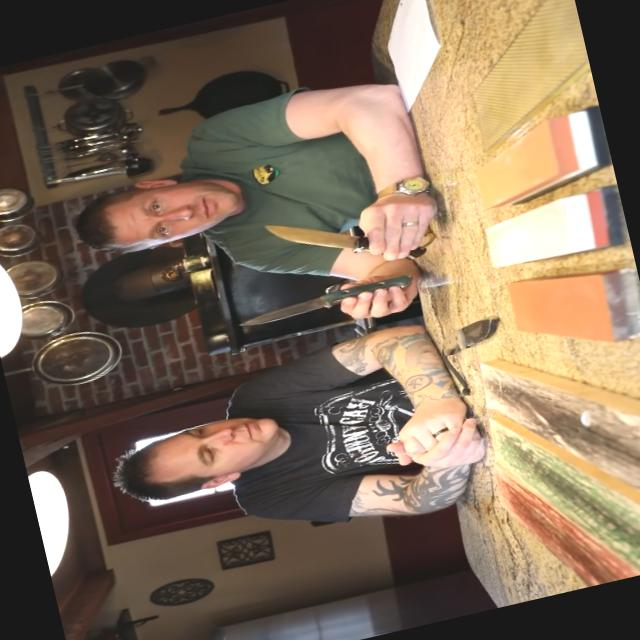knife: (254, 190, 402, 288), (225, 274, 376, 349)
